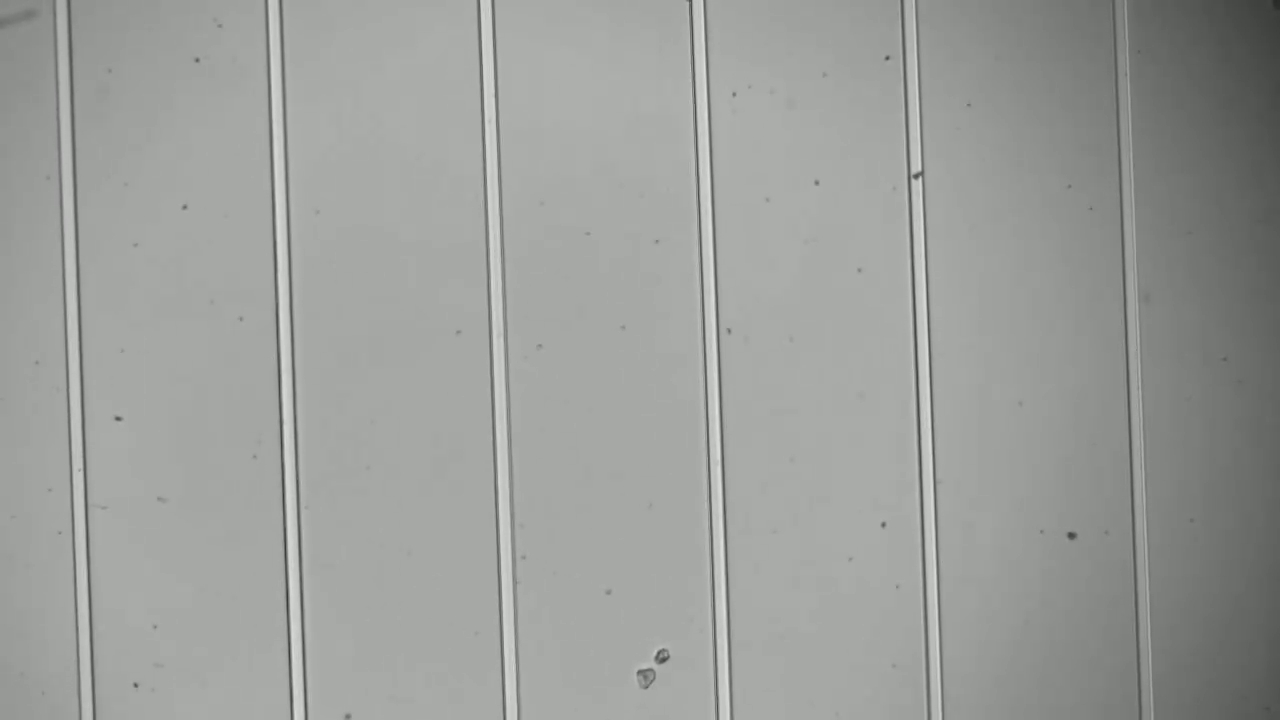stains_enbedded: (905, 165, 930, 186)
